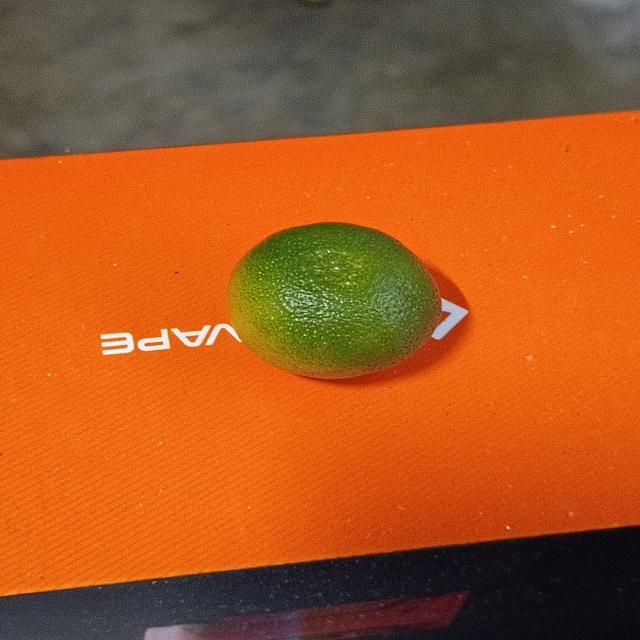heathy: (224, 220, 448, 377)
